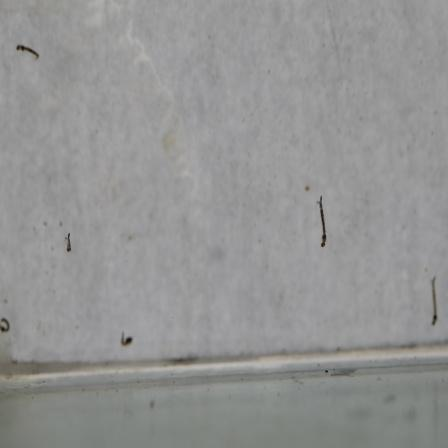Jentik-Nyamuk: (314, 191, 333, 251), (428, 274, 442, 327), (13, 40, 43, 62), (115, 328, 136, 348), (0, 309, 12, 339), (61, 230, 73, 256)
